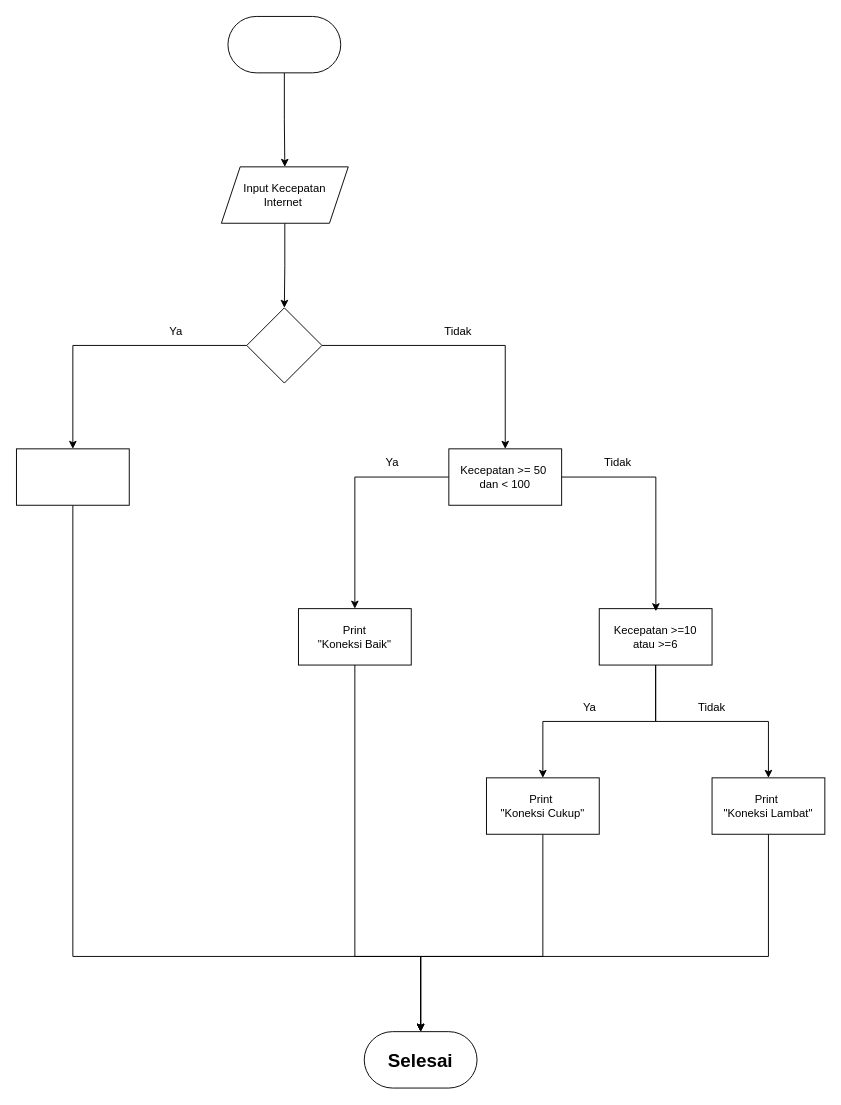
Image size: 841x1105. Some labels were removed from this diagram. The centre of each missing label's shape, as x and y in pixels:
100 Mbps: pixel 284 345
Mulai: pixel 284 44
Print "Koneksi Luar Biasa": pixel 72 476
